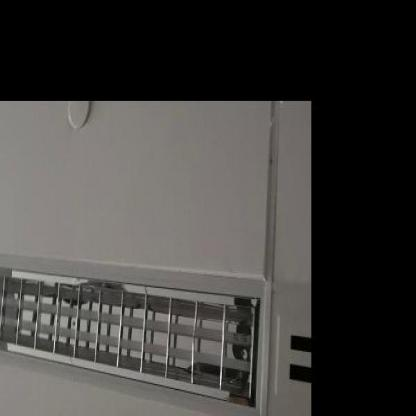light_off: (0, 242, 273, 415)
